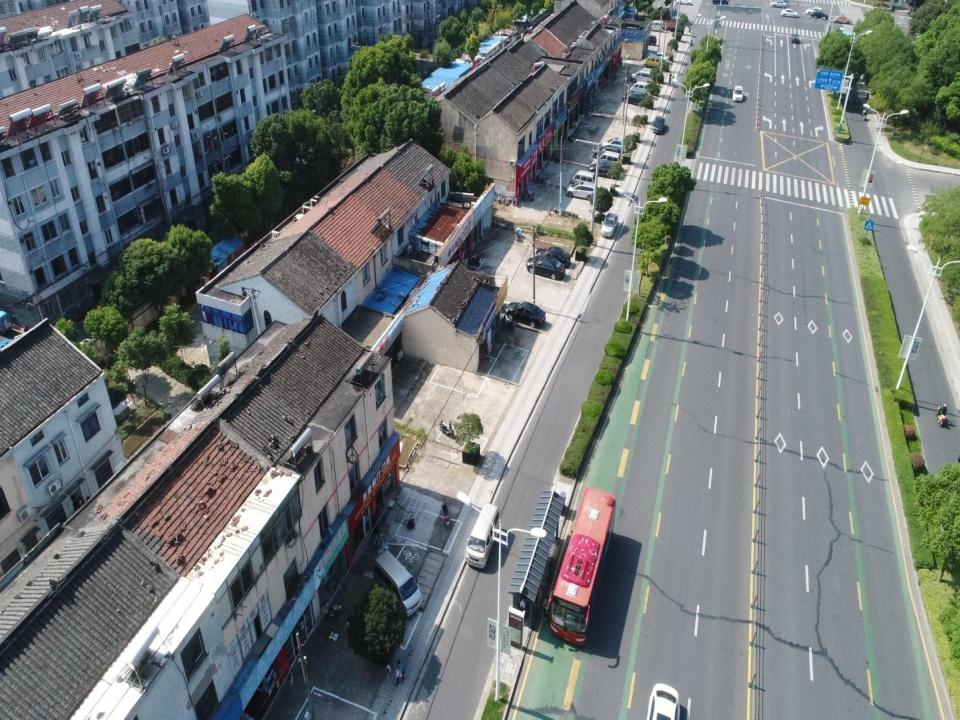bus: (547, 481, 617, 646)
car: (648, 681, 681, 719), (505, 297, 548, 326), (526, 251, 565, 280), (536, 246, 571, 266), (567, 180, 595, 202), (600, 208, 618, 237), (623, 89, 649, 105), (590, 162, 618, 176), (602, 136, 624, 152), (651, 114, 667, 134), (833, 11, 852, 26), (781, 5, 798, 20), (731, 83, 745, 101), (811, 8, 829, 20), (653, 50, 669, 63), (804, 5, 821, 16), (772, 1, 788, 9), (677, 0, 694, 7), (792, 31, 800, 44), (711, 0, 730, 5)
van: (373, 548, 424, 616), (465, 504, 502, 570), (596, 148, 620, 168), (570, 168, 594, 187), (630, 67, 654, 84), (629, 77, 652, 92), (644, 54, 661, 69), (650, 20, 663, 30), (650, 34, 657, 47)
